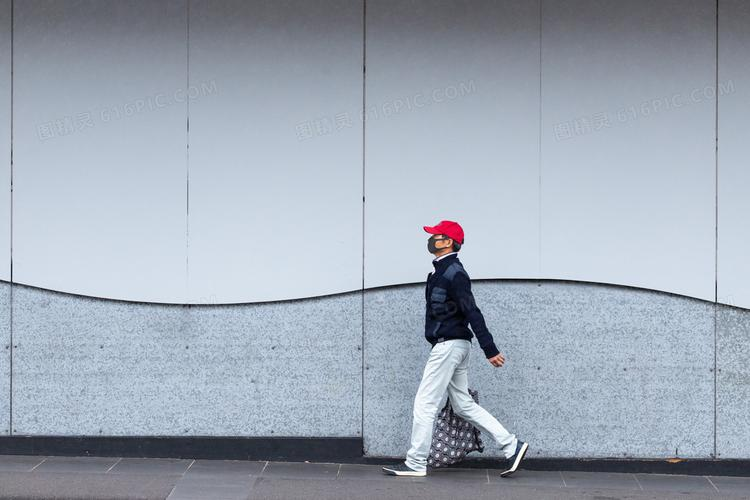mask: (426, 231, 448, 255)
